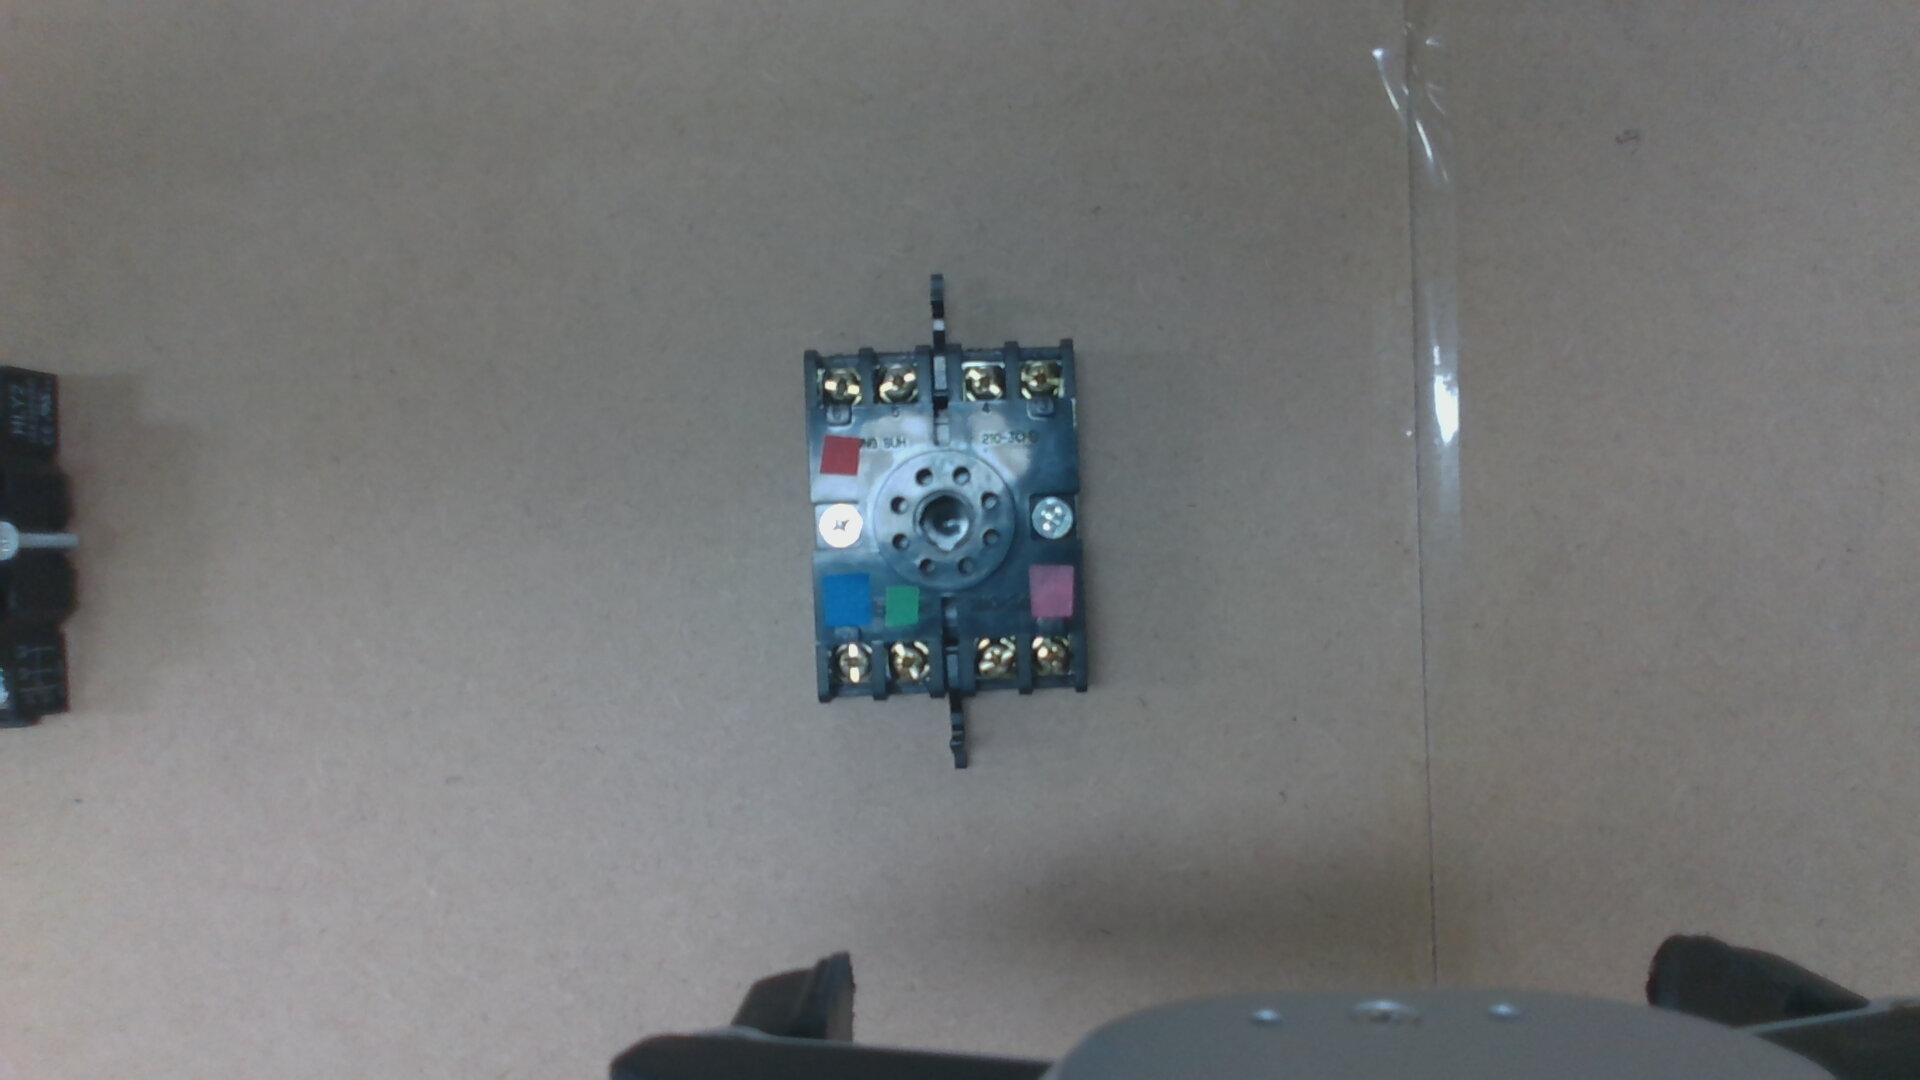timer 2: (1033, 636, 1071, 673)
timer 6: (819, 368, 860, 400)
timer 7: (833, 642, 872, 686)
timer 8: (886, 642, 928, 683)
